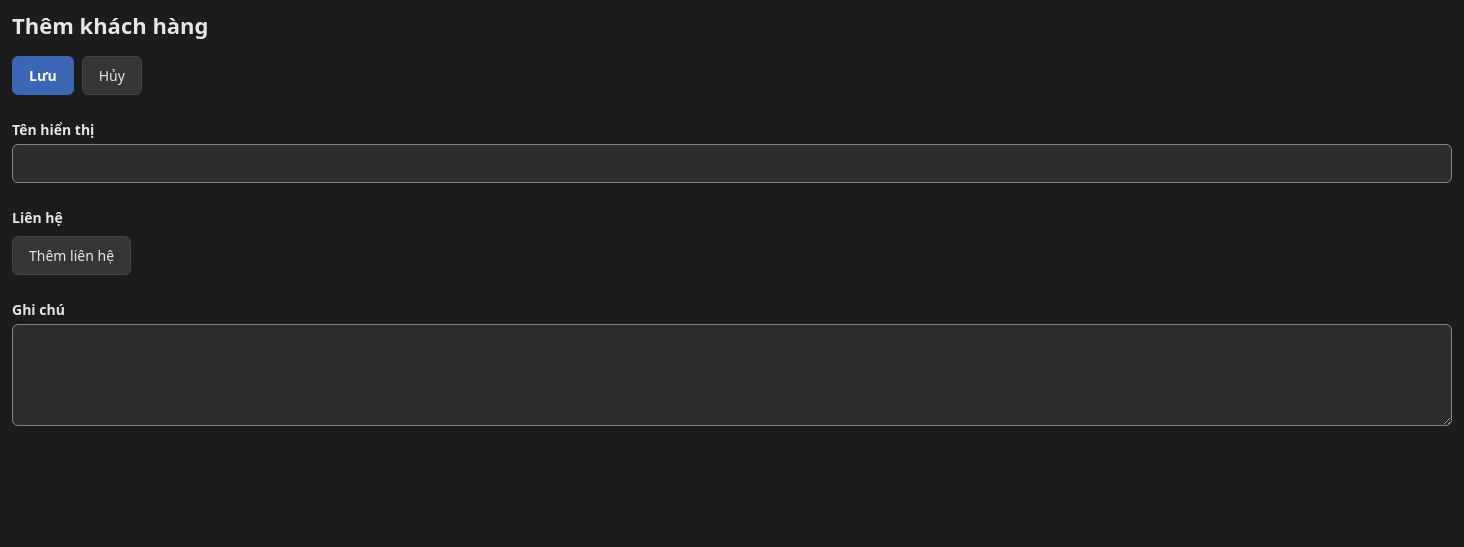
Test: page client_form — saving (saveClient) › rejected system 400 ERR_VALIDATION → one message at the top, no field error, the draft kept
This screenshot has width=1464, height=547.
Type "Tên mới" into the field labelled "Tên hiển thị" at (732, 163), box [12,144,1452,182]
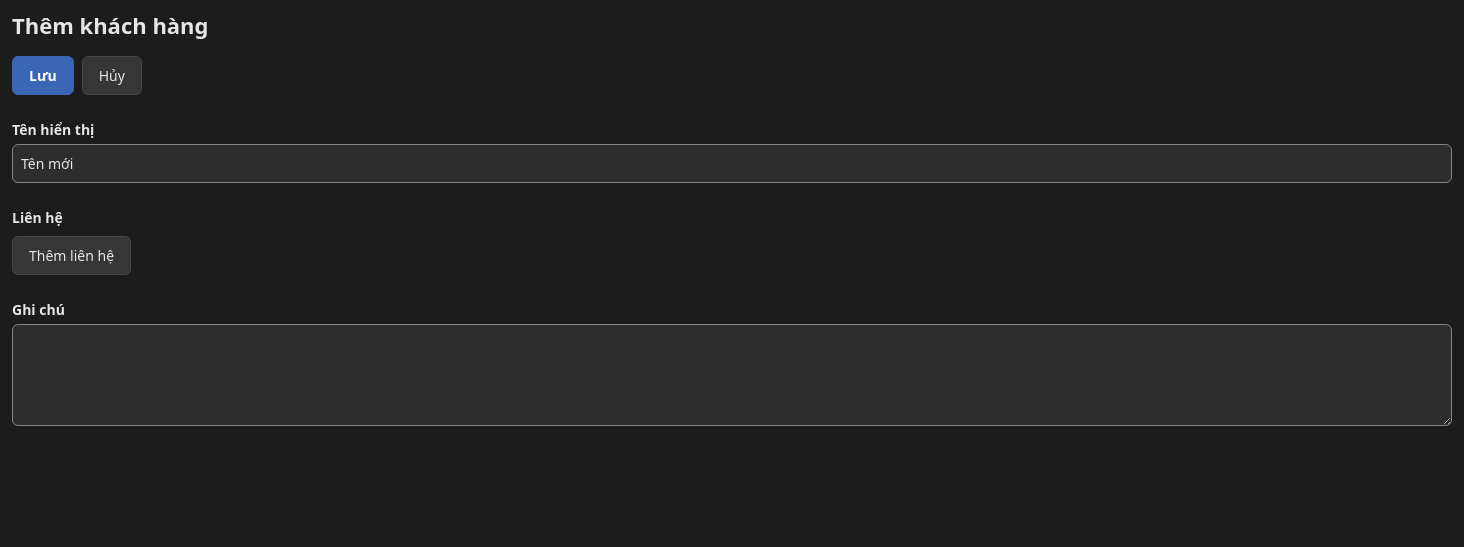
Click the button "Lưu" at (43, 75), box [12,56,74,94]
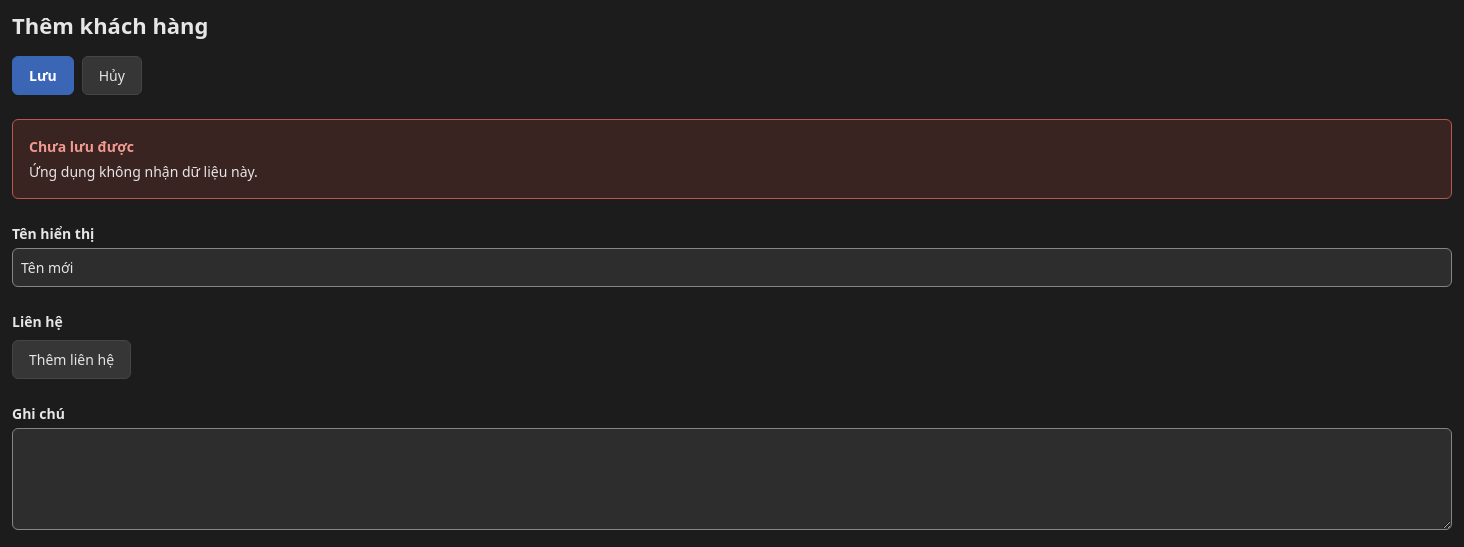
Now the message shows "Chưa lưu được", box [29,136,134,156]
Now the message shows "Ứng dụng không nhận dữ liệu này.", box [29,162,258,180]
